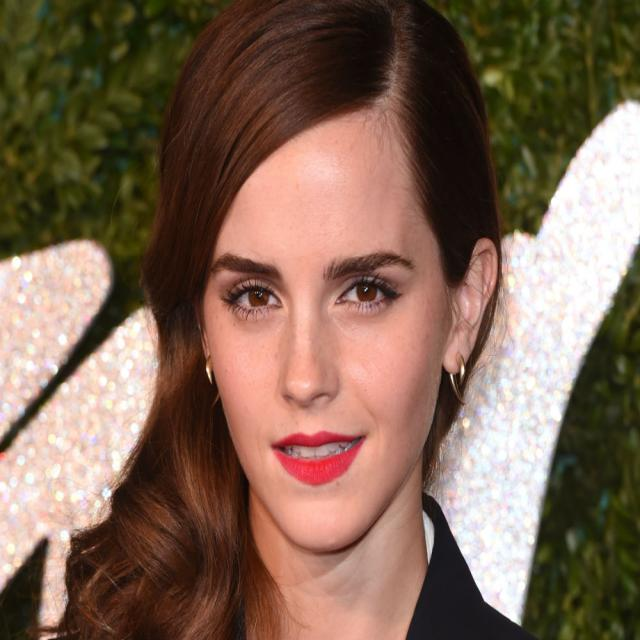human: (132, 5, 514, 640)
